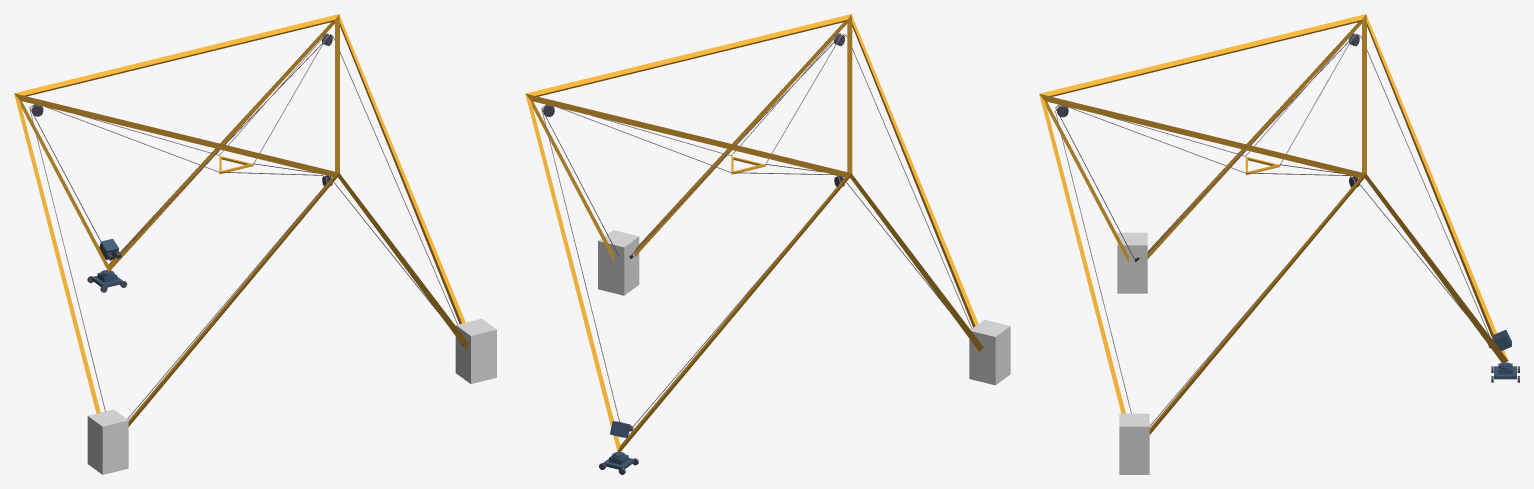
Rendered from Spider_Crane.glb.
3 renders of one model, left to right at view 1: azimuth 30°, elevation 25°; view 2: azimuth 150°, elevation 25°; view 3: azimuth 270°, elevation 25°, orthographic.
Parts seen in each view (by area): view 1: SpiderCrane_LOD0, SpiderCrane-colonly.002, SpiderCrane-colonly.001; view 2: SpiderCrane_LOD0, SpiderCrane-colonly.002, SpiderCrane-colonly.001; view 3: SpiderCrane_LOD0, SpiderCrane-colonly.001, SpiderCrane-colonly.002.
Part boxes in pixels (<box>): SpiderCrane_LOD0: <box>14,14,468,426</box>; SpiderCrane-colonly.002: <box>87,409,128,474</box>; SpiderCrane-colonly.001: <box>455,318,496,383</box>; SpiderCrane_LOD0: <box>525,14,983,474</box>; SpiderCrane-colonly.002: <box>969,319,1010,385</box>; SpiderCrane-colonly.001: <box>598,230,639,295</box>; SpiderCrane_LOD0: <box>1039,14,1519,434</box>; SpiderCrane-colonly.001: <box>1119,413,1149,474</box>; SpiderCrane-colonly.002: <box>1117,232,1147,293</box>.
Size of what is drawn, in the model's own units: 52.66 by 35.97 by 55.14.
